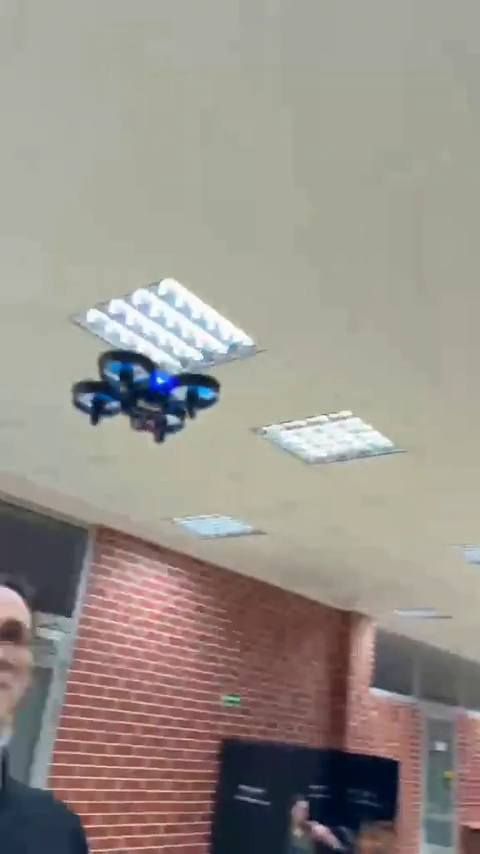drone: (65, 353, 224, 440)
